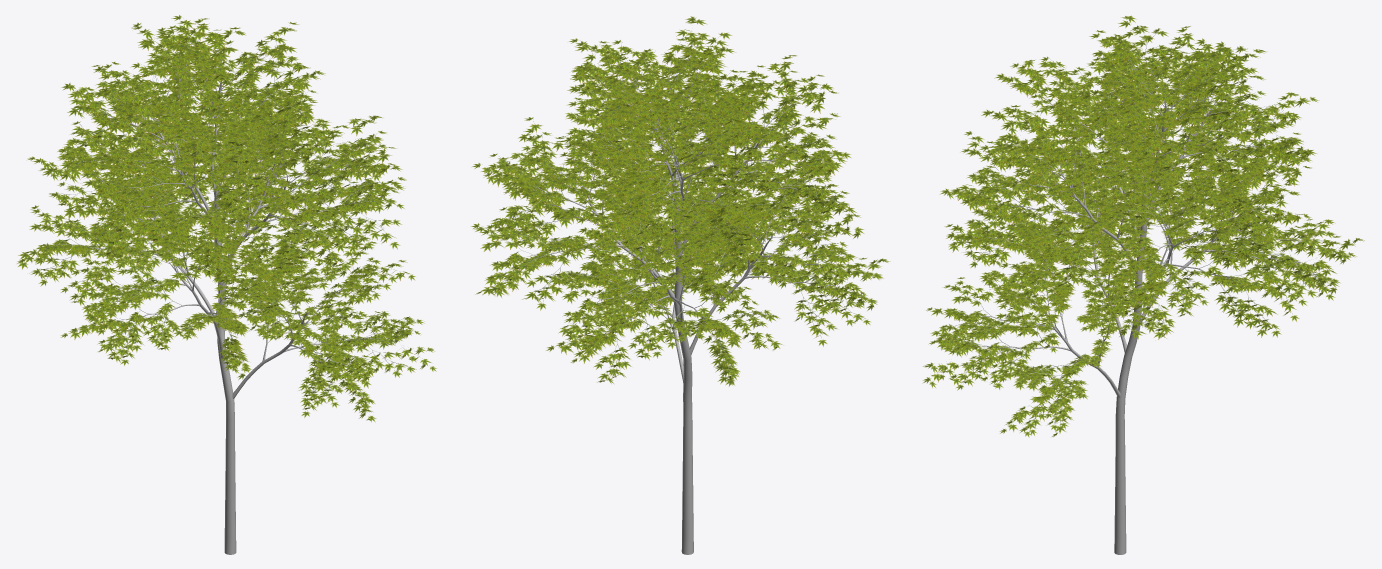
3 views of the same model, side by side, from view 1: azimuth 30°, elevation 25°; view 2: azimuth 150°, elevation 25°; view 3: azimuth 270°, elevation 25° (orthographic). The views are drawn at different scales.
Parts seen in each view (by area): view 1: WGJ_Maple02_01..Shape; view 2: WGJ_Maple02_01..Shape; view 3: WGJ_Maple02_01..Shape.
Boxes of the visible parts, <box> form: WGJ_Maple02_01..Shape: <box>17,15,436,554</box>; WGJ_Maple02_01..Shape: <box>471,16,890,554</box>; WGJ_Maple02_01..Shape: <box>922,15,1364,554</box>.
Bounding box in the file's own units: 3.23 × 4.43 × 3.38.
3 materials, 1 textured.
